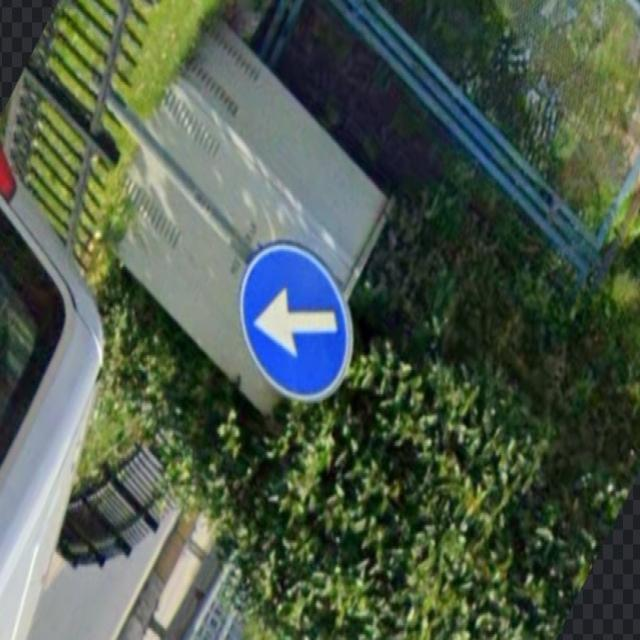Turn Left: (233, 244, 351, 397)
